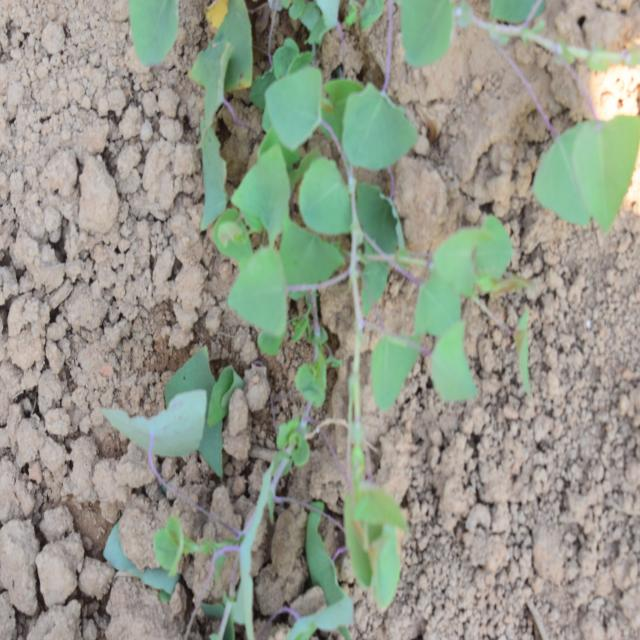Asiatic_Smartweed: (222, 62, 369, 352), (366, 212, 532, 397)
